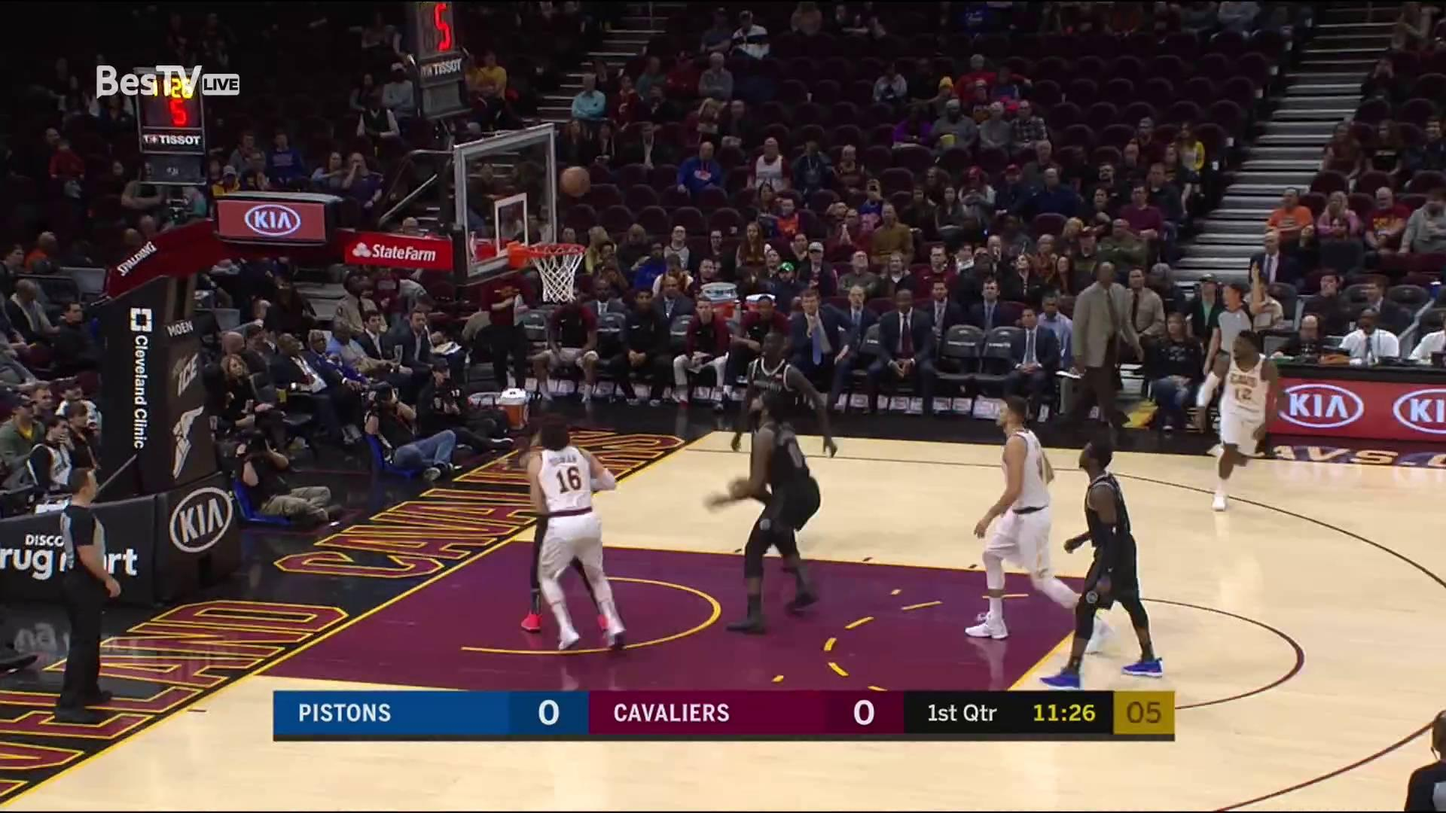basketball: (557, 168, 592, 198)
